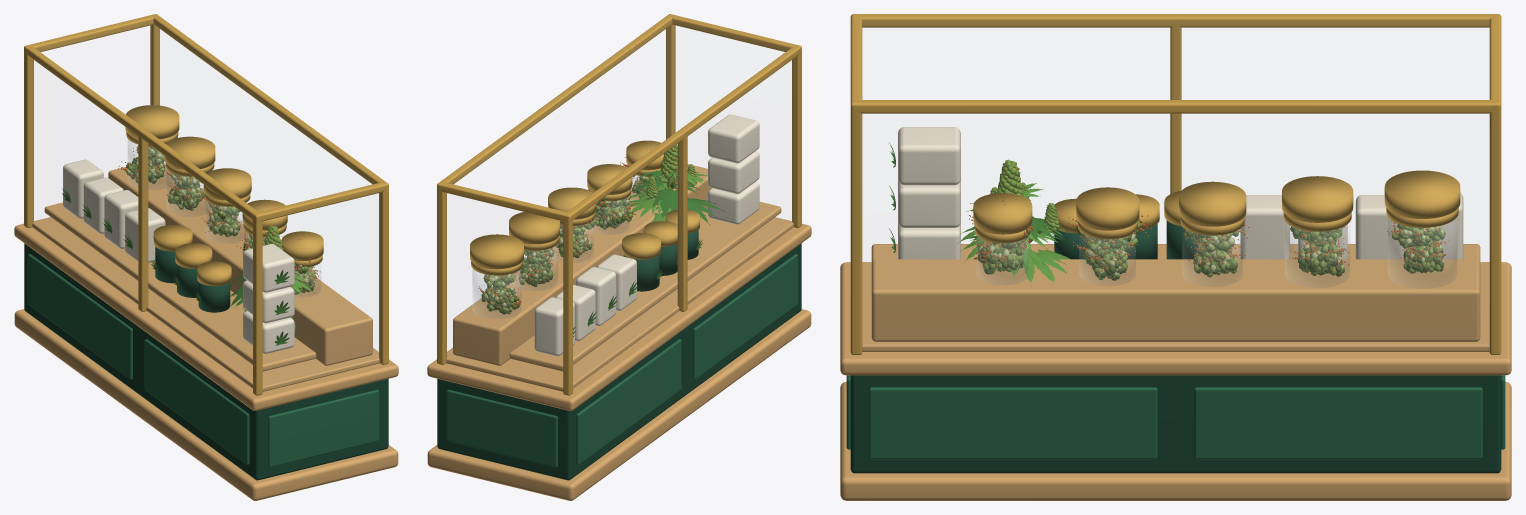
File: display_case.glb
3 views of the same model, side by side, from view 1: azimuth 30°, elevation 25°; view 2: azimuth 150°, elevation 25°; view 3: azimuth 270°, elevation 25° (orthographic). The views are drawn at different scales.
Visible parts, largest first — view 1: Tier, Base, Plinth, Rail, Floor, EndPanel1, Shelf, BasePanel1-1, BasePanel0-1, TopRailX-1, TopRailX1, PostMid (+28 smaller); view 2: Base, Plinth, Tier, Rail, Floor, EndPanel-1, BasePanel0-1, BasePanel1-1, Shelf, TopRailX-1, TopRailX1, Jar0Glass (+30 smaller); view 3: Tier, Base, BasePanel01, BasePanel11, Plinth, Rail, TopRailX1, TopRailX-1, Floor, Jar0Glass, Stack2, Jar1Glass (+23 smaller).
Part boxes in pixels (x1,y1,x2,y2): Tier: (108,167,372,365); Base: (24,243,388,480); Plinth: (14,309,398,500); Rail: (14,217,398,410); Floor: (32,217,379,391); EndPanel1: (268,389,379,467); Shelf: (44,202,316,371); BasePanel1-1: (144,339,249,464); BasePanel0-1: (27,254,132,379); TopRailX-1: (24,45,260,219); TopRailX1: (152,14,388,184); PostMid: (138,131,148,311); Base: (437,243,801,480); Plinth: (427,309,811,500); Tier: (453,164,711,365); Rail: (427,217,811,410); Floor: (446,217,793,391); EndPanel-1: (446,389,557,467); BasePanel0-1: (576,339,681,464); BasePanel1-1: (693,254,798,379); Shelf: (509,202,781,371); TopRailX-1: (565,45,799,221); TopRailX1: (438,14,673,184); Jar0Glass: (472,269,521,318); Tier: (871,259,1480,341); Base: (850,375,1501,473); BasePanel01: (1194,387,1482,459); BasePanel11: (869,387,1157,459); Plinth: (840,381,1511,500); Rail: (840,262,1511,375); TopRailX1: (850,100,1499,113); TopRailX-1: (853,14,1499,27); Floor: (862,262,1489,351); Jar0Glass: (1388,218,1456,288); Stack2: (898,127,960,185); Jar1Glass: (1285,222,1349,287).
Size of the model in its own units: 0.45 by 0.83 by 1.28.
